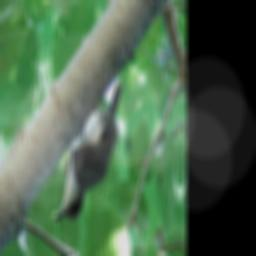Cuckoo: (52, 66, 124, 234)
